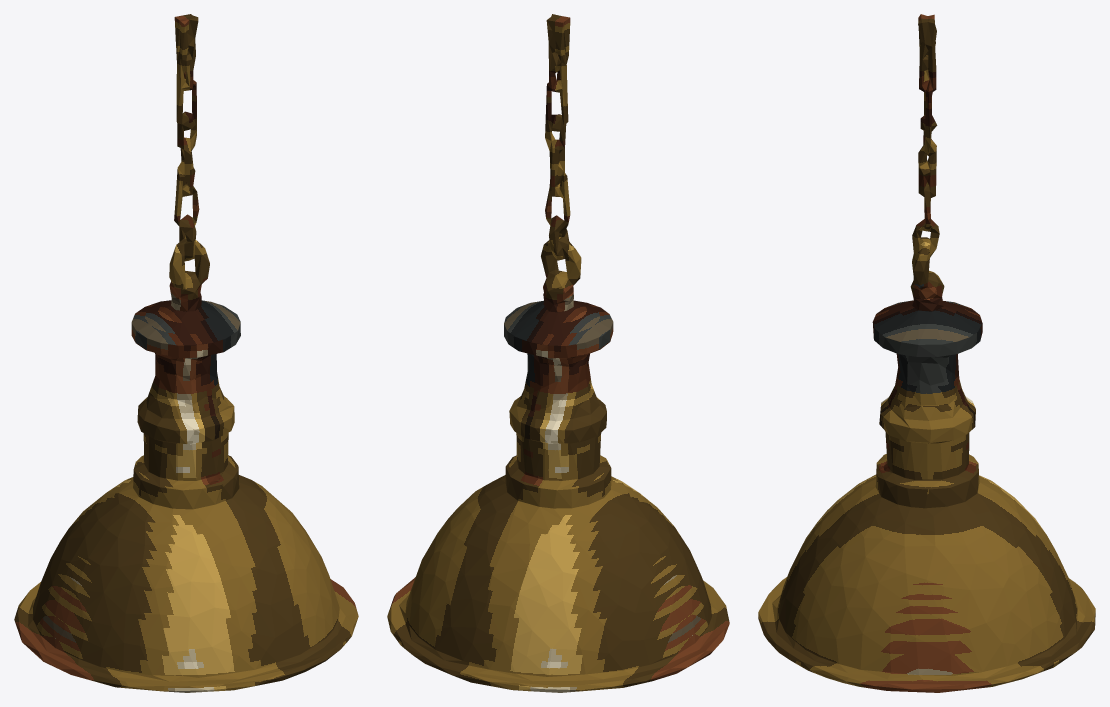
The model's file is lamp.glb.
The picture shows the model from 3 angles, left to right: view 1: azimuth 30°, elevation 25°; view 2: azimuth 150°, elevation 25°; view 3: azimuth 270°, elevation 25°; orthographic projection.
Visible parts, largest first — view 1: lamp; view 2: lamp; view 3: lamp.
Part boxes in pixels (<box>): lamp: <box>14,14,358,692</box>; lamp: <box>387,14,729,692</box>; lamp: <box>758,14,1095,692</box>.
Bounding box in the file's own units: 0.2581 × 0.5 × 0.2535.
1 material, 1 textured.
